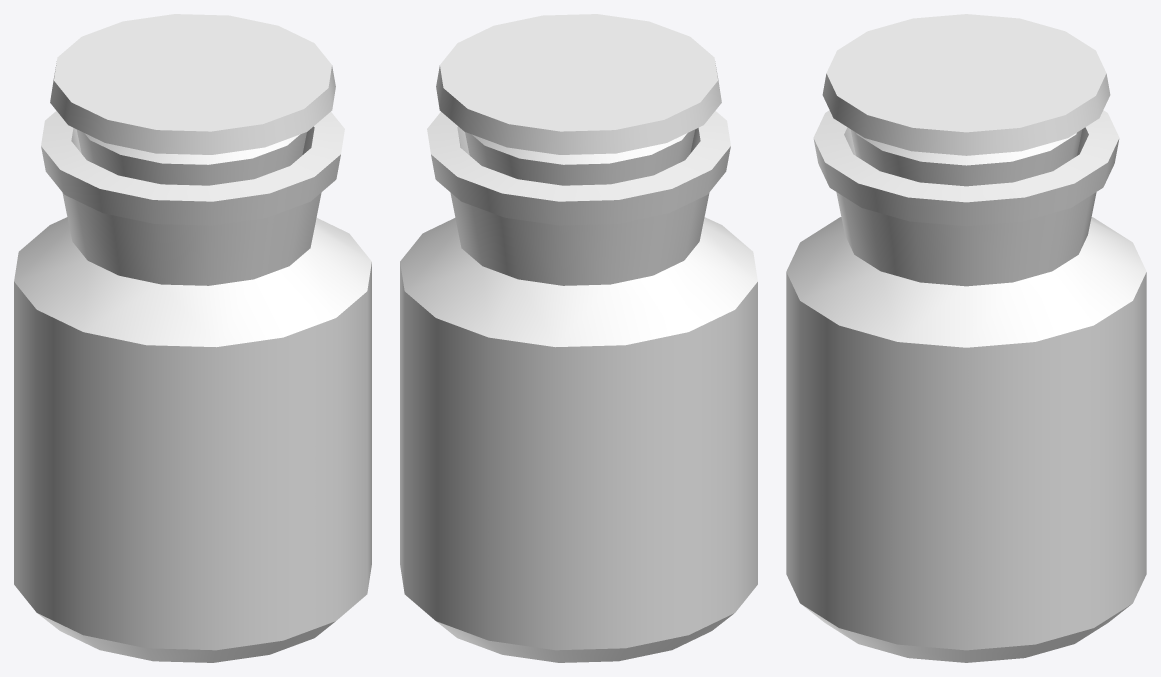
Rendered from Bottle_01.fbx.
The picture shows the model from 3 angles, left to right: view 1: azimuth 30°, elevation 25°; view 2: azimuth 150°, elevation 25°; view 3: azimuth 270°, elevation 25°; orthographic projection.
Visible parts, largest first — view 1: polySurface23; view 2: polySurface23; view 3: polySurface23.
Part boxes in pixels (<box>): polySurface23: <box>14,14,371,662</box>; polySurface23: <box>400,14,757,662</box>; polySurface23: <box>786,14,1146,662</box>.
Bounding box in the file's own units: 57.07 × 91.74 × 57.07.
Materials: 1 (1 with a texture image).
